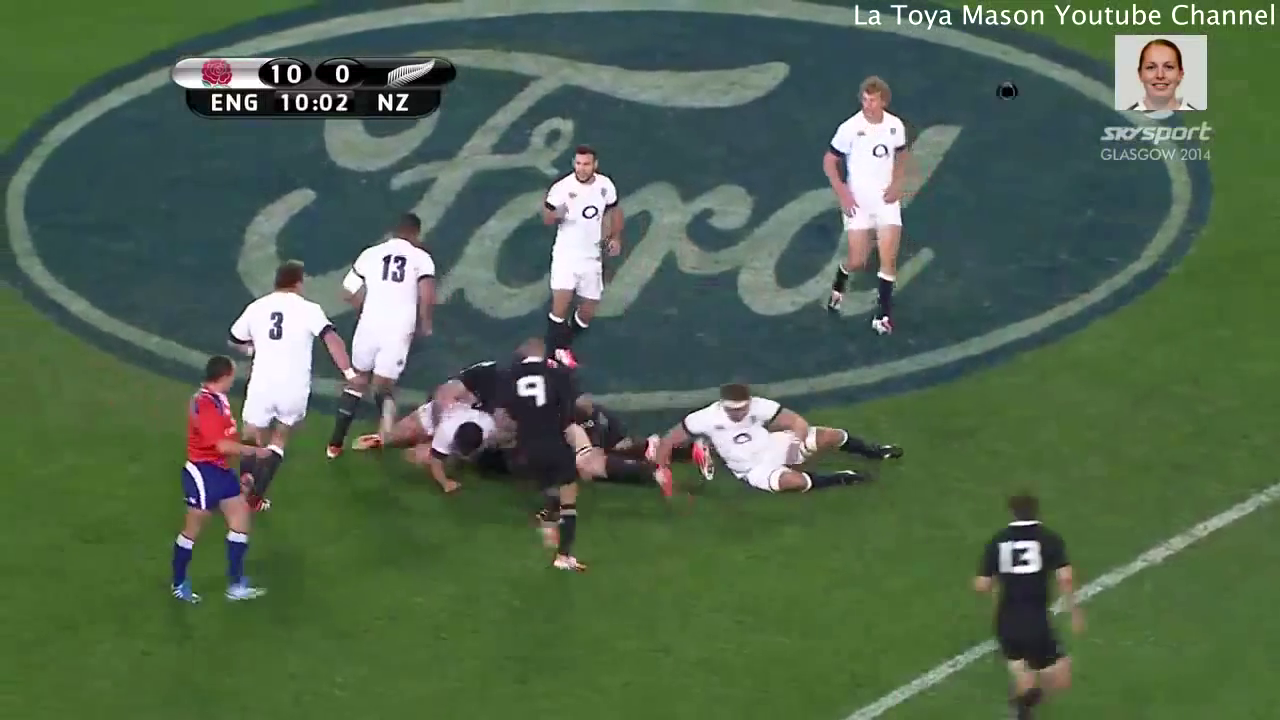player: (811, 67, 931, 356), (960, 488, 1103, 720), (152, 345, 277, 609), (321, 198, 444, 462), (680, 377, 901, 494), (531, 134, 638, 375), (493, 340, 593, 577), (231, 250, 336, 464)
ruck: (314, 341, 737, 501)
